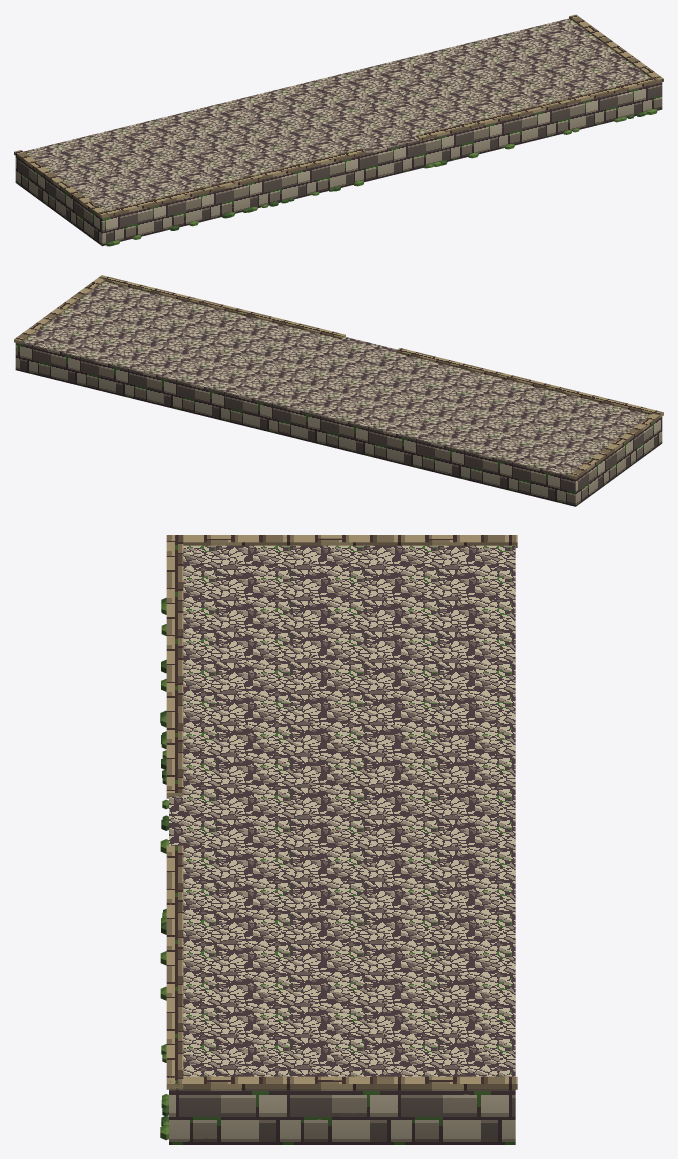
The model's file is scene_terrace_upper.glb.
3 renders of one model, top to bottom at view 1: azimuth 30°, elevation 25°; view 2: azimuth 150°, elevation 25°; view 3: azimuth 270°, elevation 25°, orthographic. The views are drawn at different scales.
Visible parts, largest first — view 1: scene_terrace_upper; view 2: scene_terrace_upper; view 3: scene_terrace_upper.
Part boxes in pixels (x1=…): scene_terrace_upper: x1=14, y1=14, x2=663, y2=246; scene_terrace_upper: x1=14, y1=275, x2=663, y2=506; scene_terrace_upper: x1=160, y1=535, x2=517, y2=1144.
Size of the model in its own units: 28.1 by 1.57 by 7.74.
3 materials, 2 textured.
